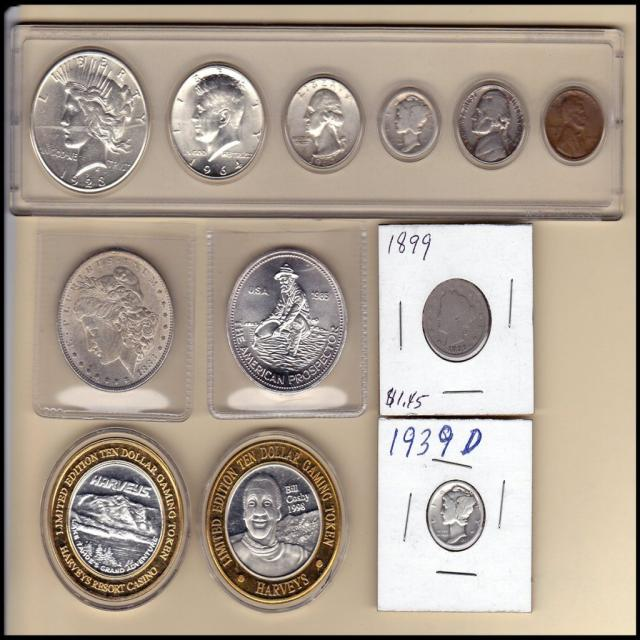Coin: (203, 431, 344, 611), (48, 431, 188, 607), (27, 45, 152, 197), (227, 245, 350, 391), (58, 251, 178, 390), (166, 59, 268, 187), (280, 71, 360, 171), (415, 275, 490, 359), (454, 82, 527, 168), (541, 82, 605, 164), (379, 87, 444, 159), (424, 480, 489, 551)
